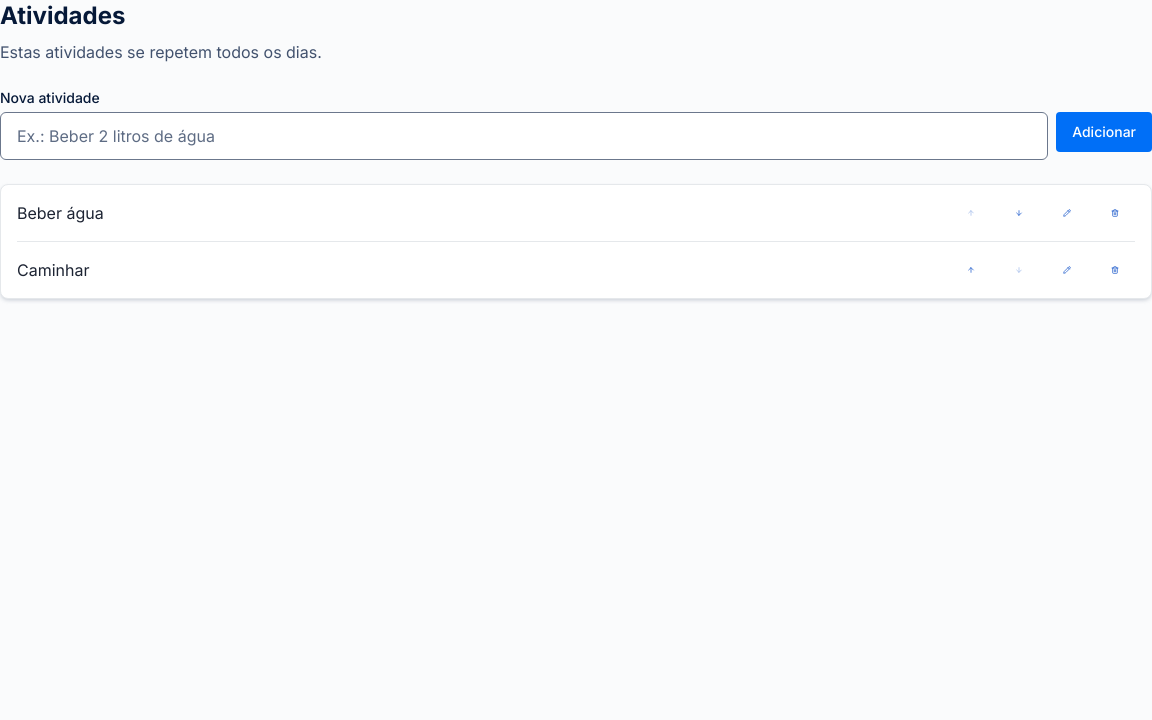
Activities › deve pedir confirmação antes de remover e só remover ao confirmar
Step 1. Click the button named "Remover \"Beber água\"" → (1115, 213), box [1095, 193, 1135, 233]
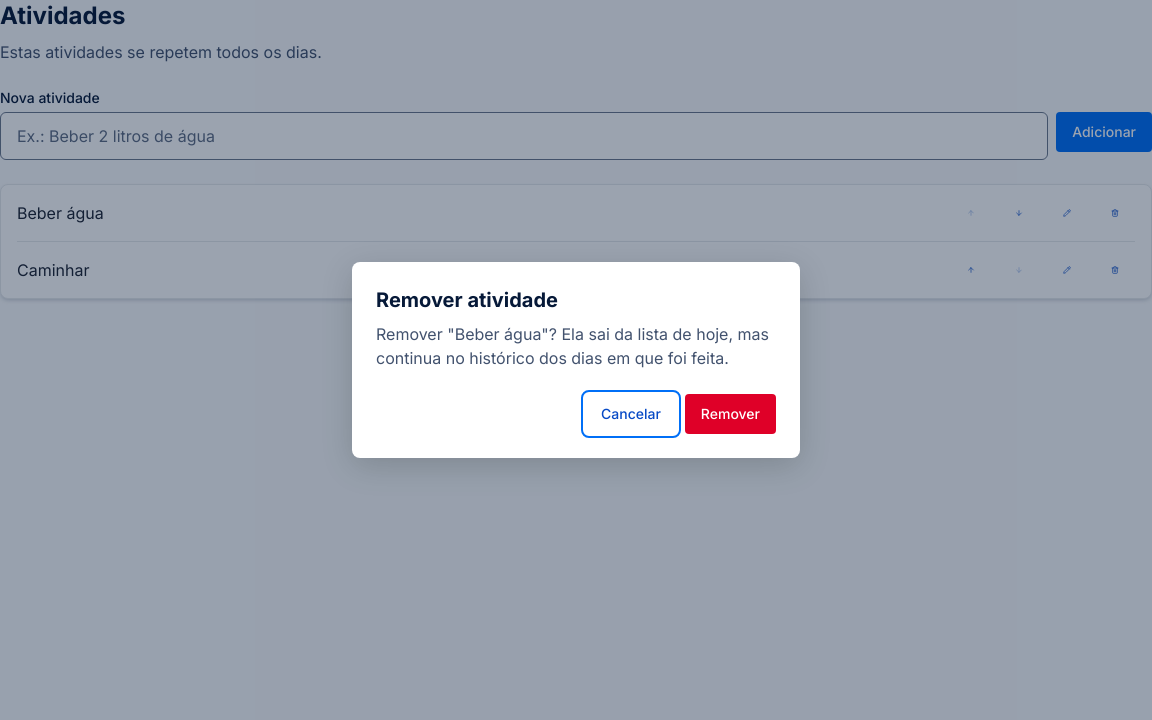
Expected: the dialog "Remover atividade" shows "continua no histórico", [376, 324, 769, 368]
Step 2. Click the button "Remover" → (730, 414), box [685, 394, 776, 434]
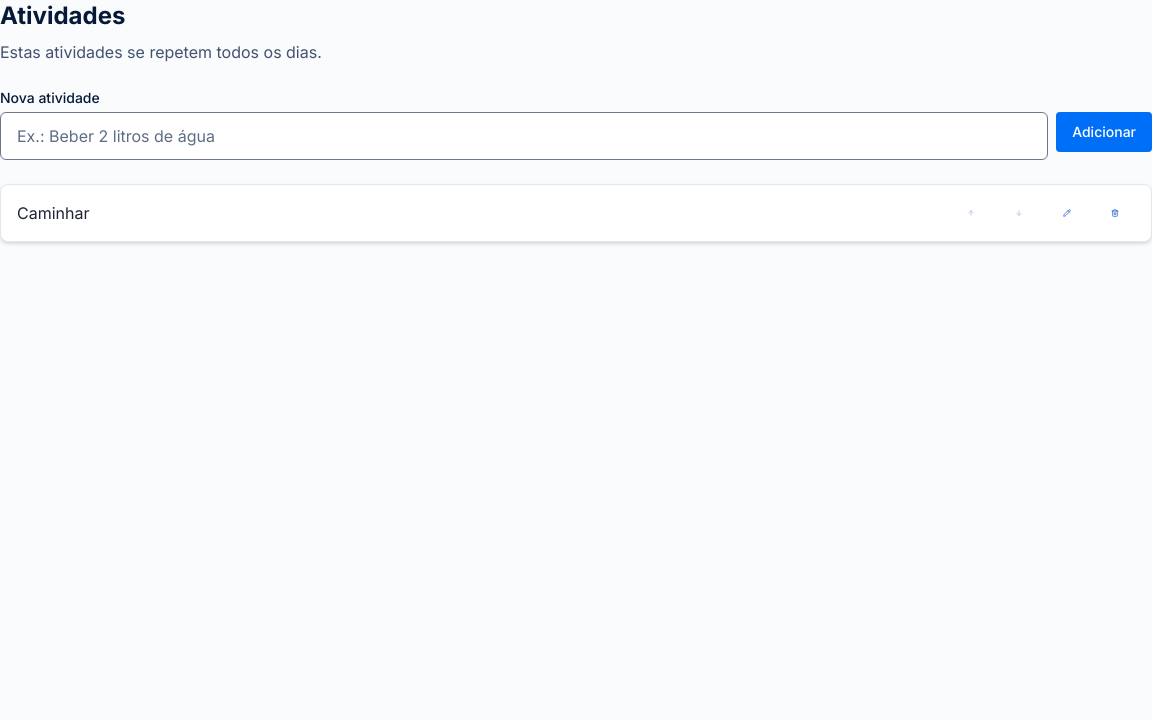
Expected: the text "Beber água" is gone
